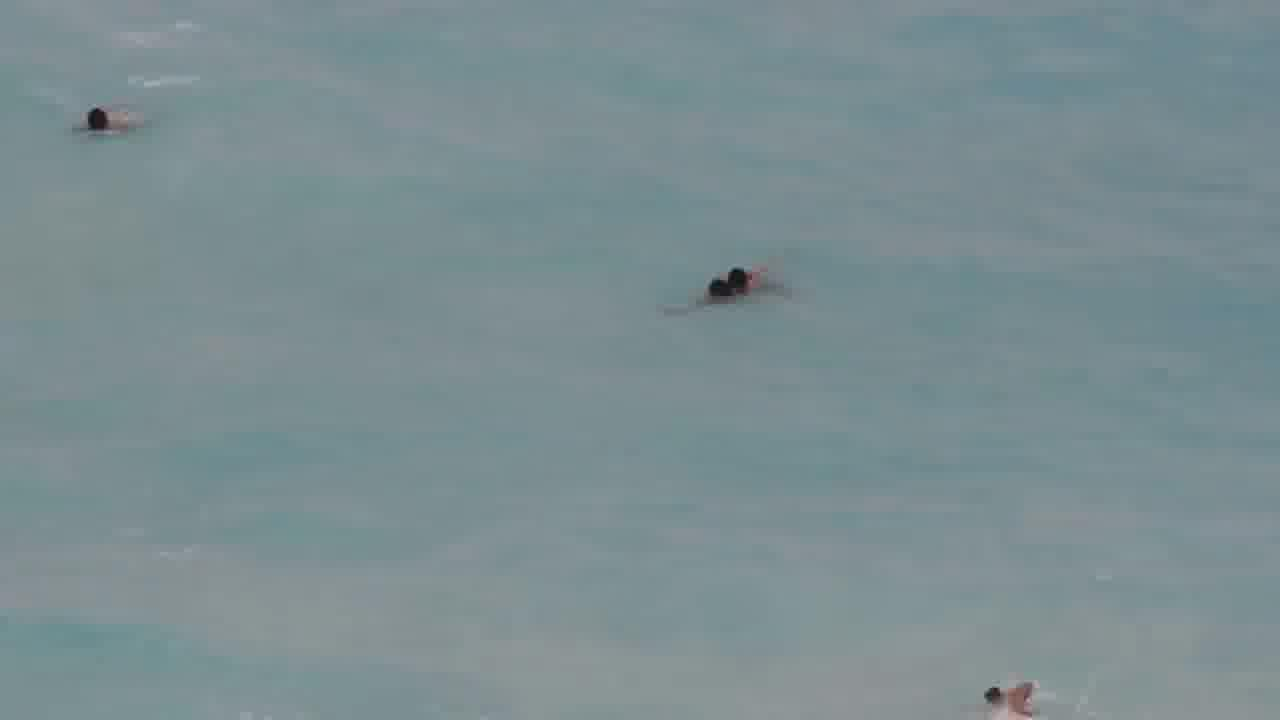swimmer: (649, 273, 735, 317), (969, 671, 1046, 719), (70, 98, 151, 134), (722, 260, 790, 296)
